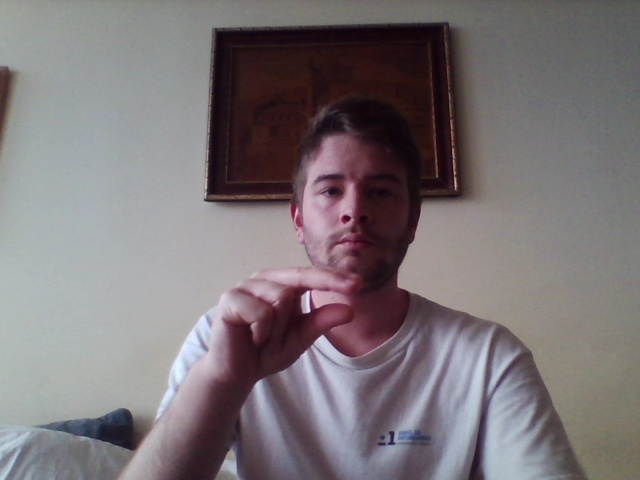ne: (209, 262, 366, 384)
